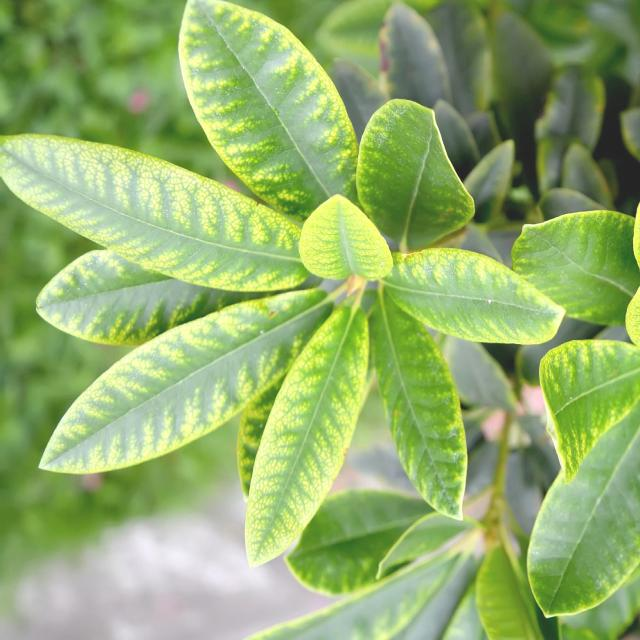Chlorosis: (14, 66, 497, 480)
